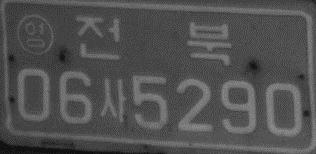0: (265, 81, 303, 138), (15, 68, 50, 122)
2: (176, 77, 214, 133)
5: (131, 74, 169, 131)
6: (58, 70, 92, 125)
9: (220, 79, 257, 135)
사: (99, 78, 127, 122)
영: (15, 12, 54, 56)
전북_D: (75, 14, 232, 66)
